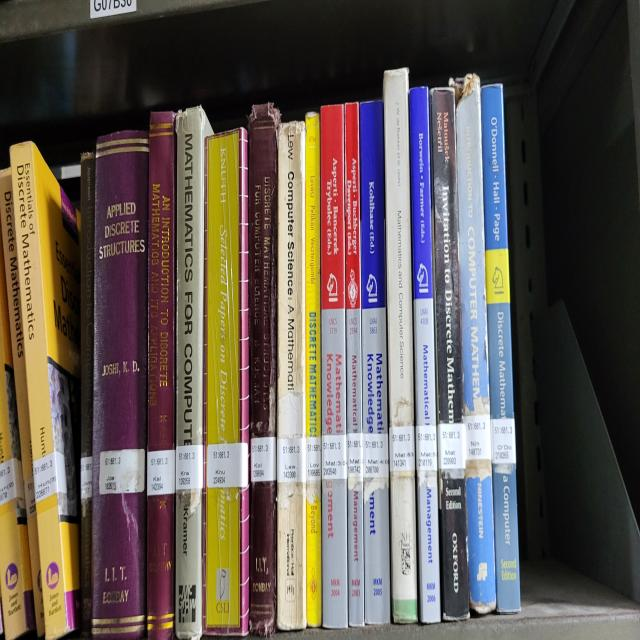Book: (10, 141, 80, 639), (91, 130, 149, 639), (204, 130, 249, 633), (454, 76, 496, 614), (0, 168, 45, 636), (481, 87, 520, 611), (431, 89, 469, 620), (175, 106, 211, 639), (384, 68, 418, 622), (249, 103, 280, 636), (410, 87, 440, 622), (360, 103, 390, 625), (320, 106, 348, 628), (0, 238, 36, 639), (148, 111, 175, 639), (278, 122, 306, 630), (345, 103, 364, 625), (305, 114, 321, 628), (80, 152, 95, 636)
Label: (99, 449, 145, 495), (206, 444, 248, 487), (32, 452, 66, 503), (438, 422, 466, 471), (148, 449, 175, 495), (362, 433, 389, 479), (464, 414, 491, 460), (176, 444, 202, 490), (389, 425, 415, 471), (278, 438, 305, 482), (0, 457, 24, 506), (251, 436, 276, 482), (491, 419, 516, 463), (321, 436, 346, 479), (416, 425, 438, 471), (346, 433, 362, 479), (306, 436, 321, 482), (24, 476, 36, 519), (81, 457, 92, 501)
